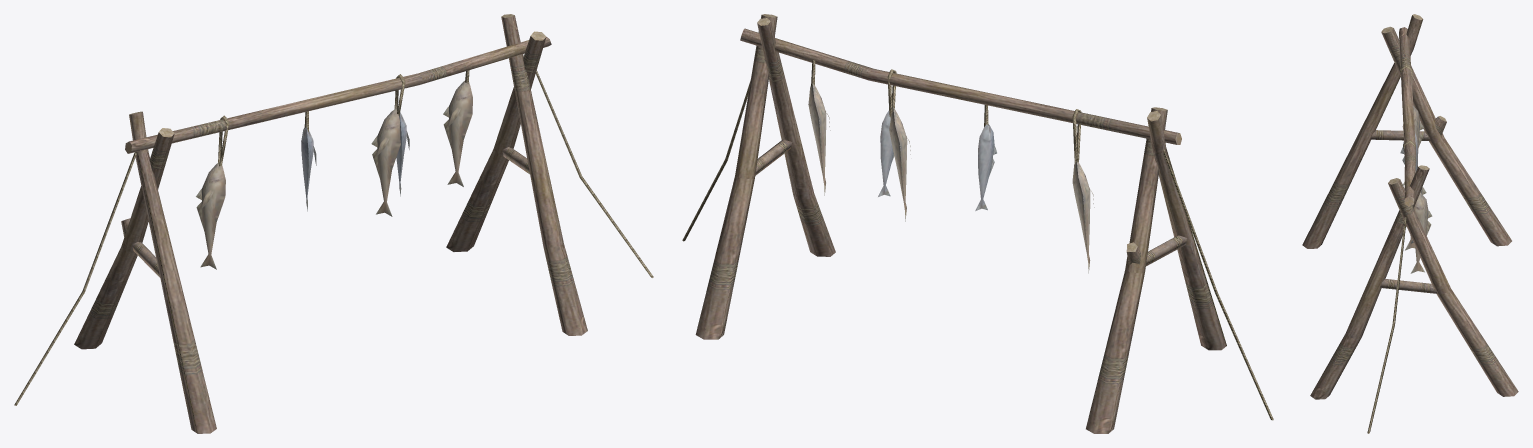
The model's file is d_sg_shouyou_liangyujia01_qt.FBX.
3 views of the same model, side by side, from view 1: azimuth 30°, elevation 25°; view 2: azimuth 150°, elevation 25°; view 3: azimuth 270°, elevation 25° (orthographic). The views are drawn at different scales.
Visible parts, largest first — view 1: d_sgsj_shouyou_xiangzi01_qt; view 2: d_sgsj_shouyou_xiangzi01_qt; view 3: d_sgsj_shouyou_xiangzi01_qt.
Part boxes in pixels (bbox=[...]): d_sgsj_shouyou_xiangzi01_qt: bbox=[14, 14, 653, 433]; d_sgsj_shouyou_xiangzi01_qt: bbox=[682, 14, 1273, 433]; d_sgsj_shouyou_xiangzi01_qt: bbox=[1302, 14, 1518, 433].
Bounding box in the file's own units: 4.46 × 1.93 × 1.65.
